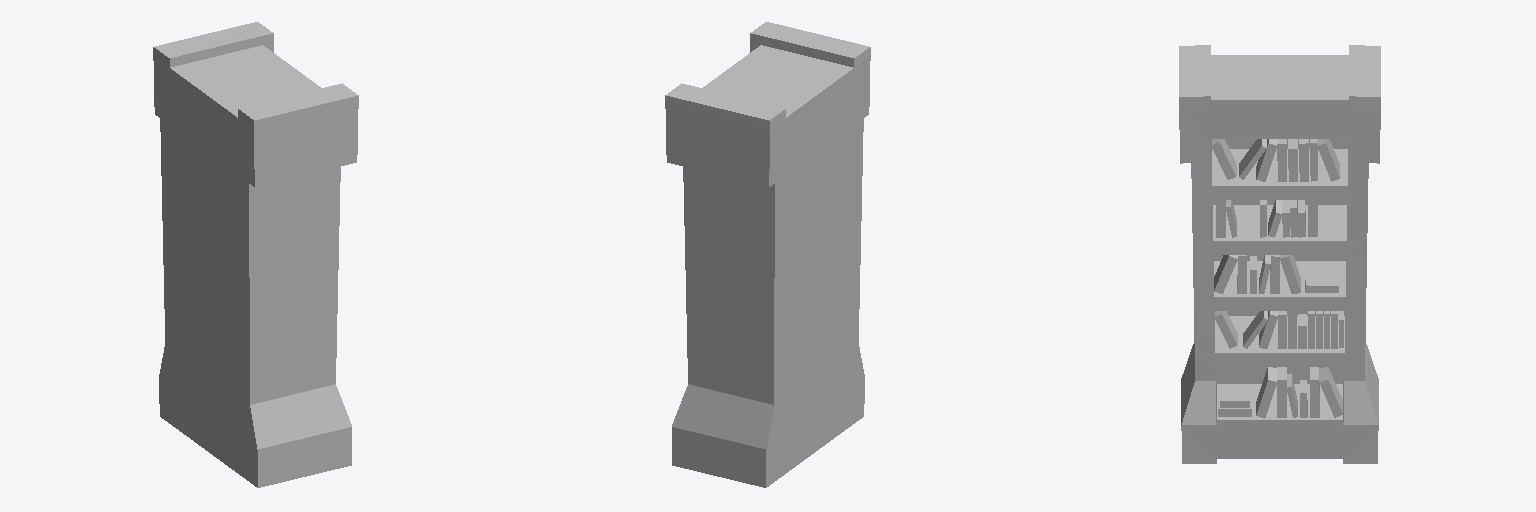
File: BookCaseBooks.obj
3 renders of one model, left to right at view 1: azimuth 30°, elevation 25°; view 2: azimuth 150°, elevation 25°; view 3: azimuth 270°, elevation 25°, orthographic.
Visible parts, largest first — view 1: BookCaseBooks; view 2: BookCaseBooks; view 3: BookCaseBooks.
Boxes of the visible parts, x1=… form: BookCaseBooks: x1=153, y1=22, x2=358, y2=487; BookCaseBooks: x1=665, y1=22, x2=870, y2=487; BookCaseBooks: x1=1179, y1=45, x2=1380, y2=463.
Bounding box in the file's own units: 0.4519 × 1.53 × 0.7577.